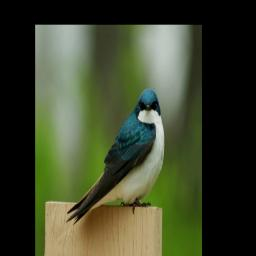Swallow: (64, 75, 168, 240)
